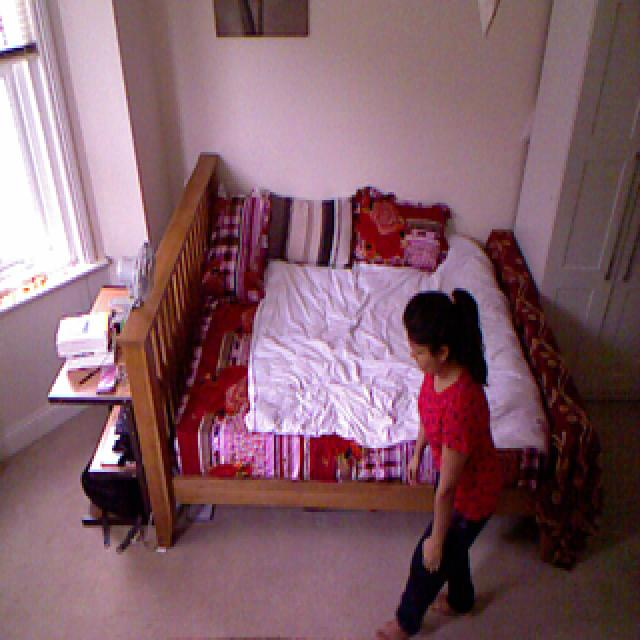standing: (401, 296, 503, 626)
